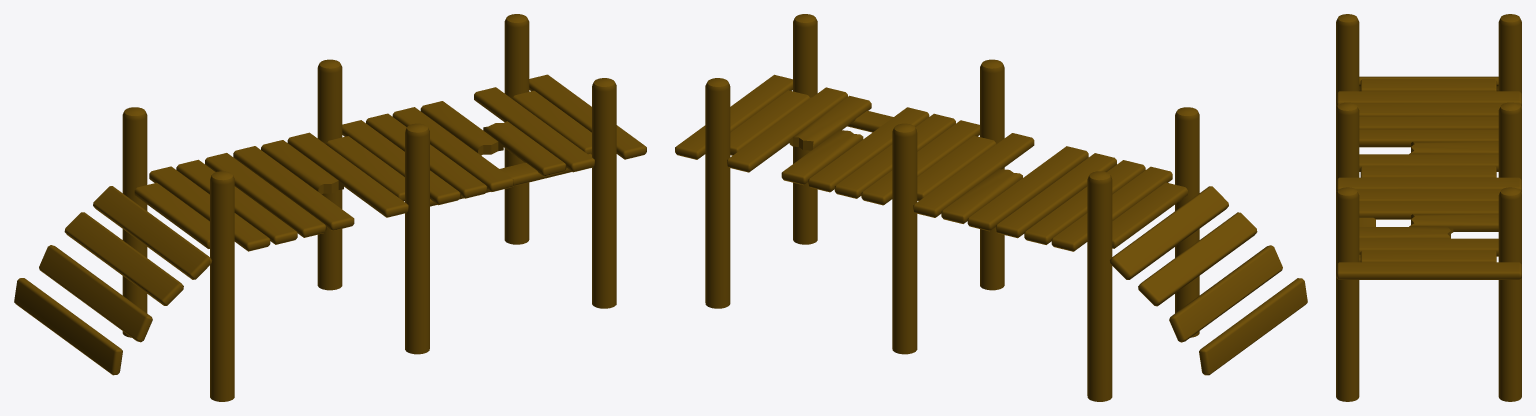
File: MarshDock.fbx
3 renders of one model, left to right at view 1: azimuth 30°, elevation 25°; view 2: azimuth 150°, elevation 25°; view 3: azimuth 270°, elevation 25°, orthographic. The views are drawn at different scales.
Parts seen in each view (by area): view 1: Dock; view 2: Dock; view 3: Dock.
Part boxes in pixels (x1=…): Dock: x1=14, y1=14, x2=646, y2=401; Dock: x1=675, y1=14, x2=1307, y2=401; Dock: x1=1336, y1=14, x2=1521, y2=401.
Bounding box in the file's own units: 7.51 × 2.98 × 2.43.
